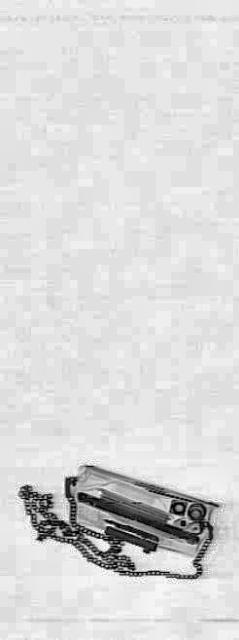Knife: (102, 512, 158, 542)
